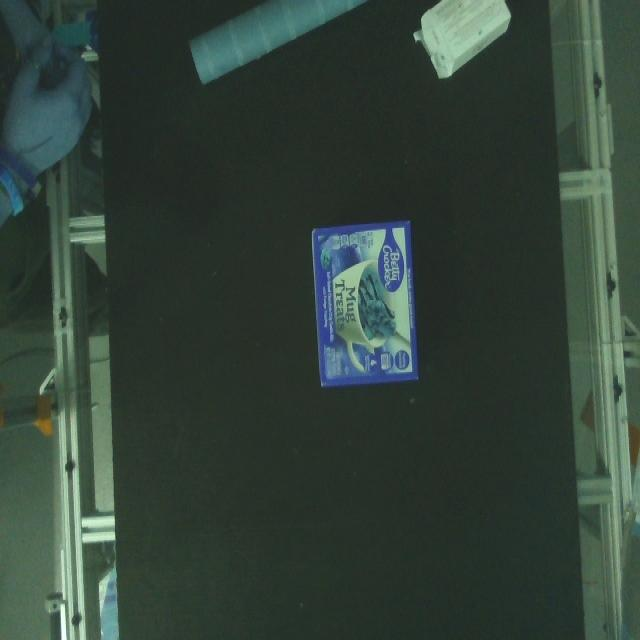paper: (306, 212, 424, 389), (182, 0, 373, 92), (411, 0, 517, 88)
